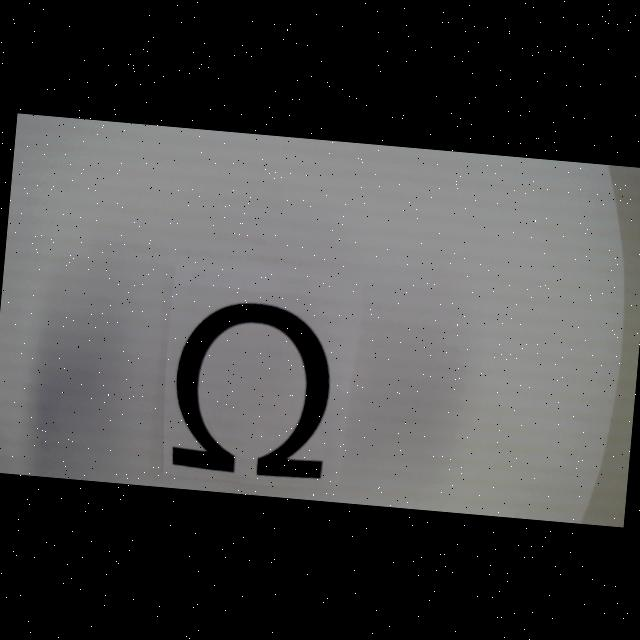OMEGA: (170, 296, 334, 480)
